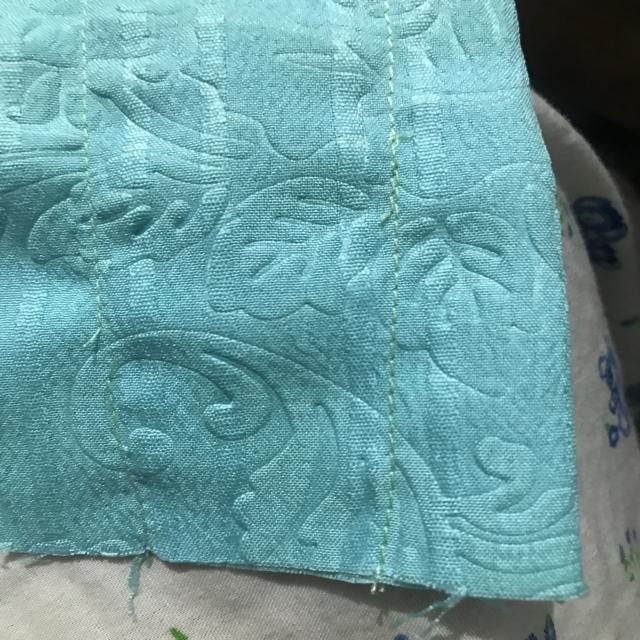broken: (74, 313, 136, 385)
good: (379, 346, 402, 448)
